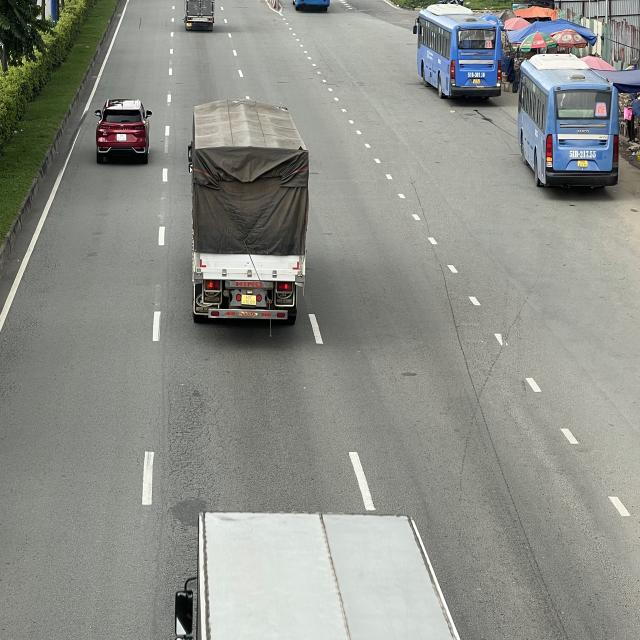car: (94, 98, 154, 163)
coach: (514, 55, 618, 192), (415, 4, 504, 103)
truck: (190, 98, 309, 332), (183, 0, 216, 32)
